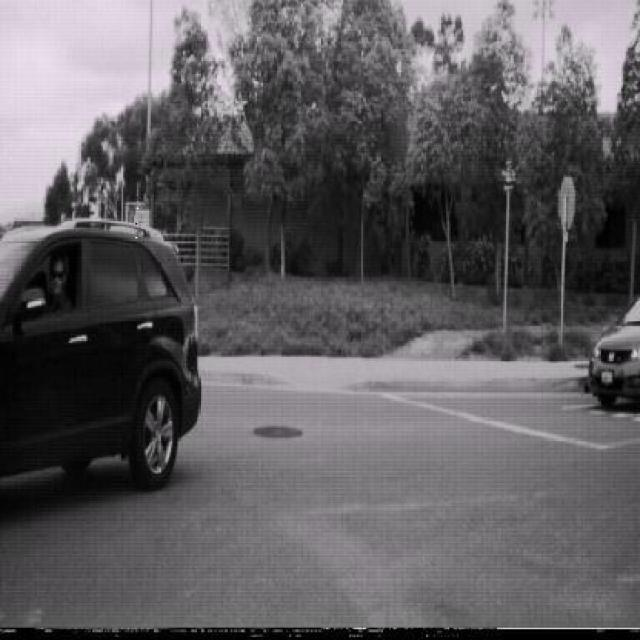speedLimit25: (135, 206, 151, 242)
